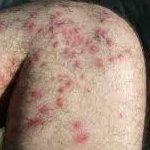Ants: (63, 45, 82, 70), (54, 77, 76, 94), (63, 28, 83, 45), (108, 52, 129, 63), (22, 18, 36, 32), (49, 14, 64, 26), (74, 132, 88, 143), (27, 90, 41, 100), (71, 118, 82, 130), (27, 51, 37, 64), (28, 118, 43, 126), (38, 105, 51, 113), (95, 57, 104, 68), (52, 40, 61, 51), (95, 28, 106, 37), (104, 39, 114, 48), (54, 98, 63, 107), (90, 42, 98, 52)
